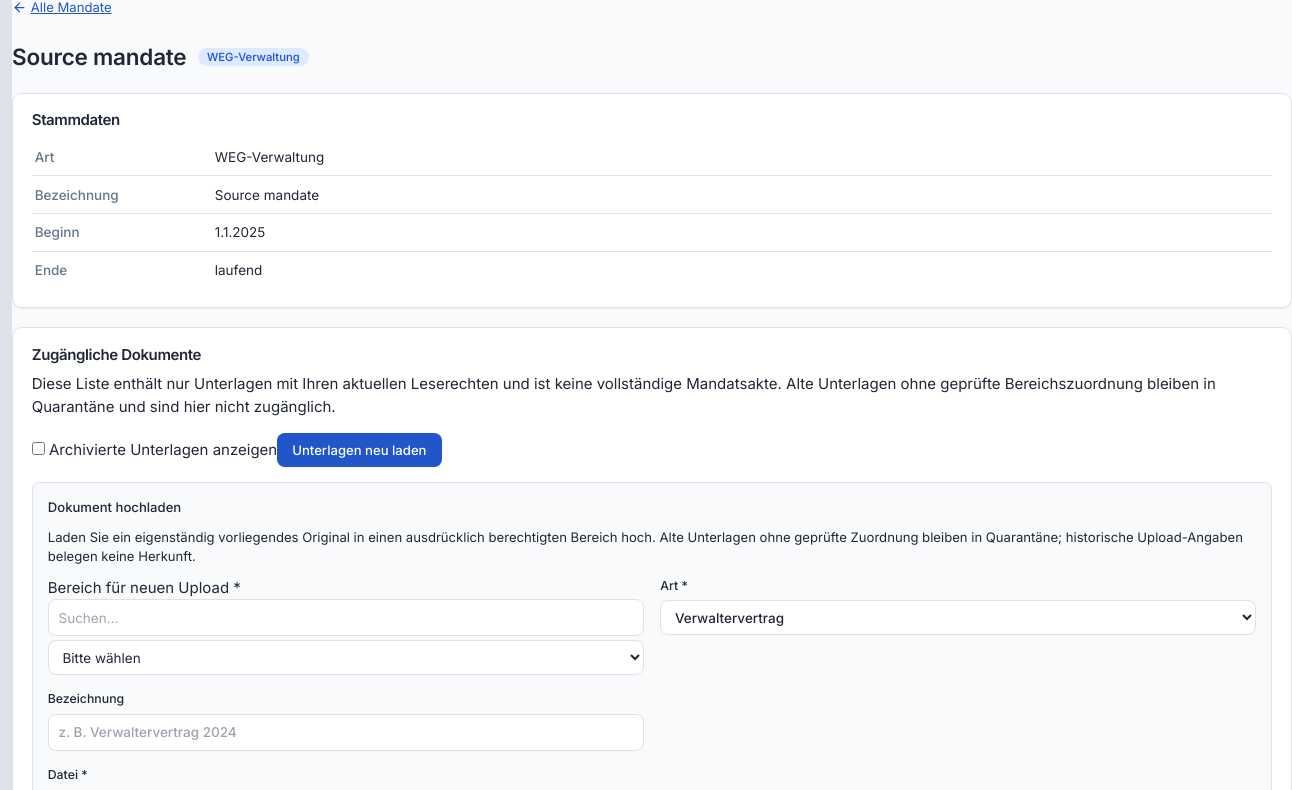
Test case: hides stale documents after a failed reload instead of claiming an empty mandate
Click the button "Unterlagen neu laden" at (359, 450), box [277,433,442,467]
(page scrolled)
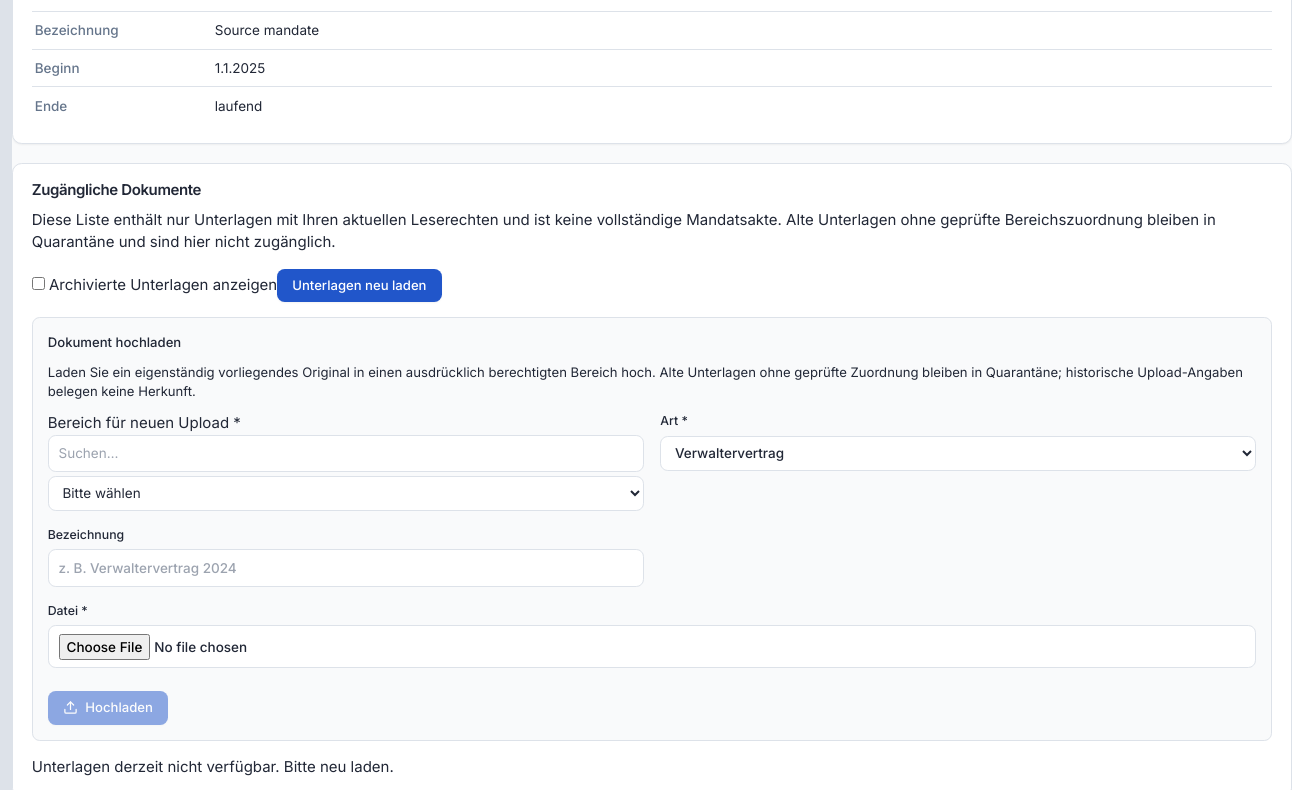
Now the message "Unterlagen derzeit nicht verfügbar. Bitte neu laden." is shown, box [32,757,394,776]
